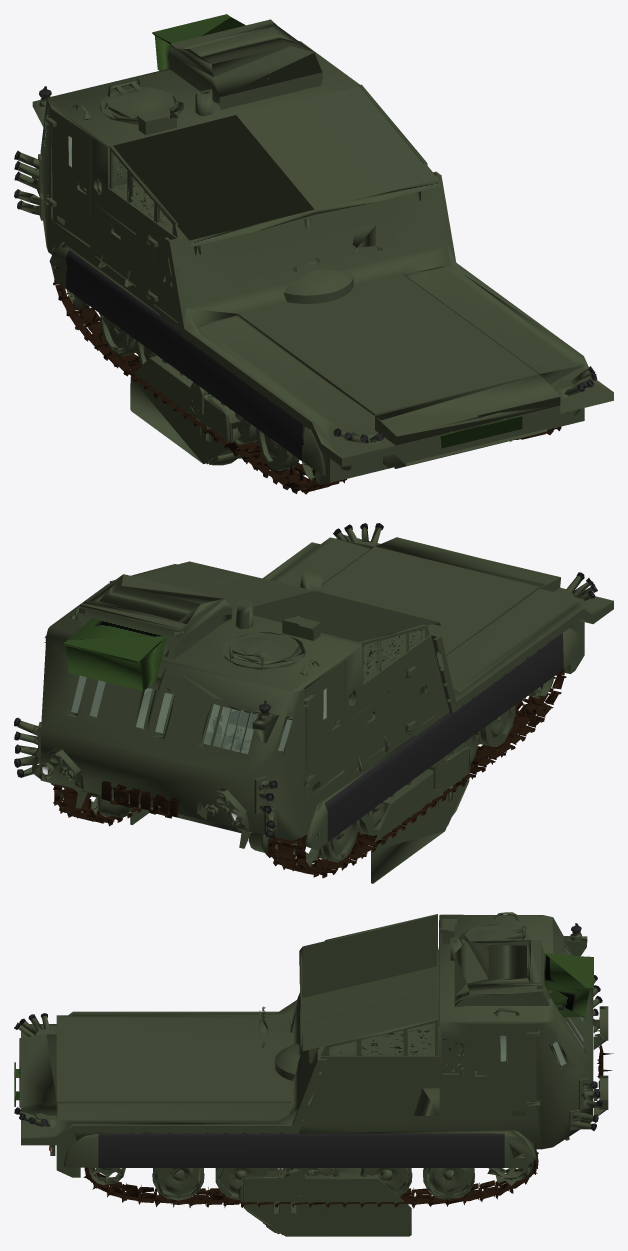
File: rapier.glb
3 views of the same model, one above another, from view 1: azimuth 30°, elevation 25°; view 2: azimuth 150°, elevation 25°; view 3: azimuth 270°, elevation 25° (orthographic). The views are drawn at different scales.
Visible parts, largest first — view 1: body|Base, body|flat, cradle|Base, body|Tracks, turret|Base, body|Front, body|back, body|rubber_cap; view 2: body|Base, body|flat, body|Tracks, cradle|Base, body|Front, body|glass, turret|Base, body|rubber_cap; view 3: body|Base, body|flat, cradle|Base, body|Base.001, body|Tracks, body|Front, body|rubber_cap, turret|Base.
Boxes of the visible parts, x1=… form: body|Base: x1=17, y1=19, x2=613, y2=484; body|flat: x1=66, y1=249, x2=302, y2=460; cradle|Base: x1=130, y1=356, x2=258, y2=465; body|Tracks: x1=53, y1=266, x2=561, y2=494; turret|Base: x1=283, y1=261, x2=353, y2=303; body|Front: x1=152, y1=14, x2=245, y2=70; body|back: x1=440, y1=416, x2=522, y2=448; body|rubber_cap: x1=14, y1=86, x2=597, y2=442; body|Base: x1=17, y1=527, x2=613, y2=871; body|flat: x1=324, y1=633, x2=563, y2=841; body|Tracks: x1=53, y1=669, x2=566, y2=878; cradle|Base: x1=130, y1=745, x2=470, y2=883; body|Front: x1=63, y1=618, x2=166, y2=690; body|glass: x1=71, y1=676, x2=326, y2=753; turret|Base: x1=204, y1=708, x2=257, y2=749; body|rubber_cap: x1=14, y1=523, x2=597, y2=838; body|Base: x1=18, y1=912, x2=608, y2=1200; body|flat: x1=98, y1=1133, x2=504, y2=1167; cradle|Base: x1=237, y1=1168, x2=411, y2=1236; body|Base.001: x1=468, y1=1023, x2=536, y2=1119; body|Tracks: x1=83, y1=1044, x2=613, y2=1208; body|Front: x1=544, y1=953, x2=593, y2=1017; body|rubber_cap: x1=14, y1=923, x2=602, y2=1130; turret|Base: x1=275, y1=1044, x2=300, y2=1080.
Bounding box in the file's own units: 2.85 × 2.83 × 6.32.
23 materials, 2 textured.
